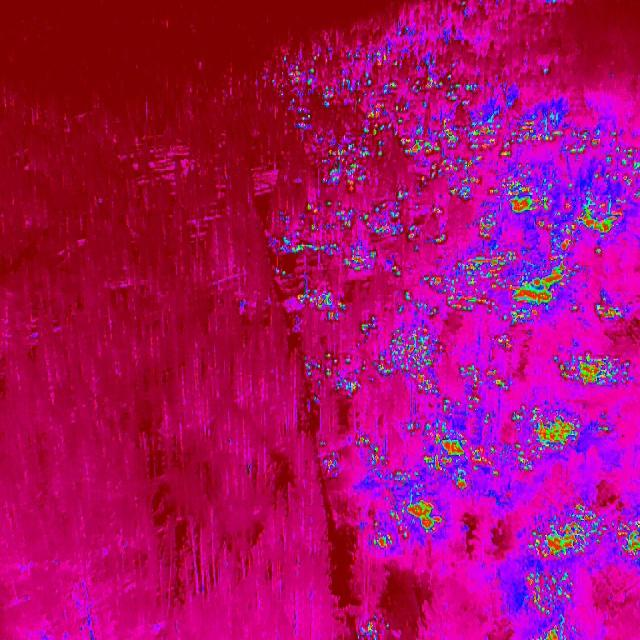fire: (278, 45, 491, 196), (274, 200, 446, 278), (422, 248, 581, 330), (468, 394, 616, 482), (499, 103, 640, 181), (499, 179, 622, 255), (520, 498, 613, 566), (371, 471, 446, 553), (404, 401, 467, 498), (544, 344, 636, 394), (377, 331, 448, 395), (303, 350, 374, 402), (524, 568, 582, 620), (454, 360, 512, 398), (297, 288, 351, 326), (616, 502, 640, 566), (316, 434, 347, 478), (355, 436, 390, 472), (352, 611, 392, 640), (594, 297, 634, 325), (470, 210, 496, 242), (537, 620, 566, 640), (494, 334, 513, 354)
